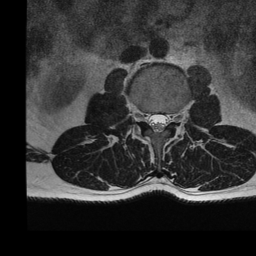CCS_normal: (155, 104, 161, 140)
LFS_normal: (169, 105, 177, 128)
LLS_normal: (161, 104, 169, 133)
RFS_normal: (139, 102, 147, 128)
RLS_normal: (147, 105, 154, 132)
